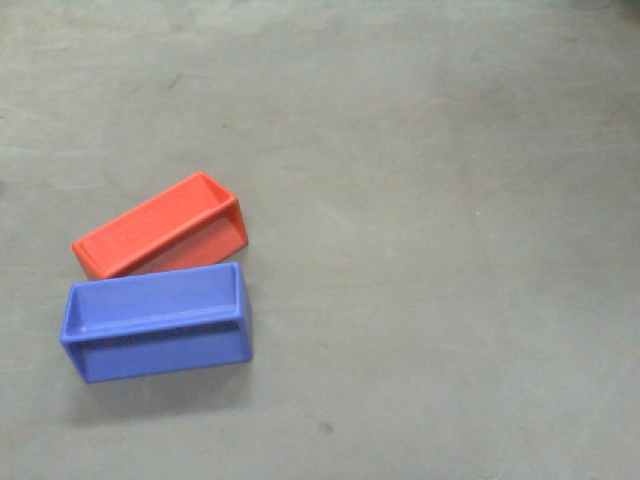BlueSample: (60, 265, 253, 380)
RedSample: (70, 169, 249, 287)
